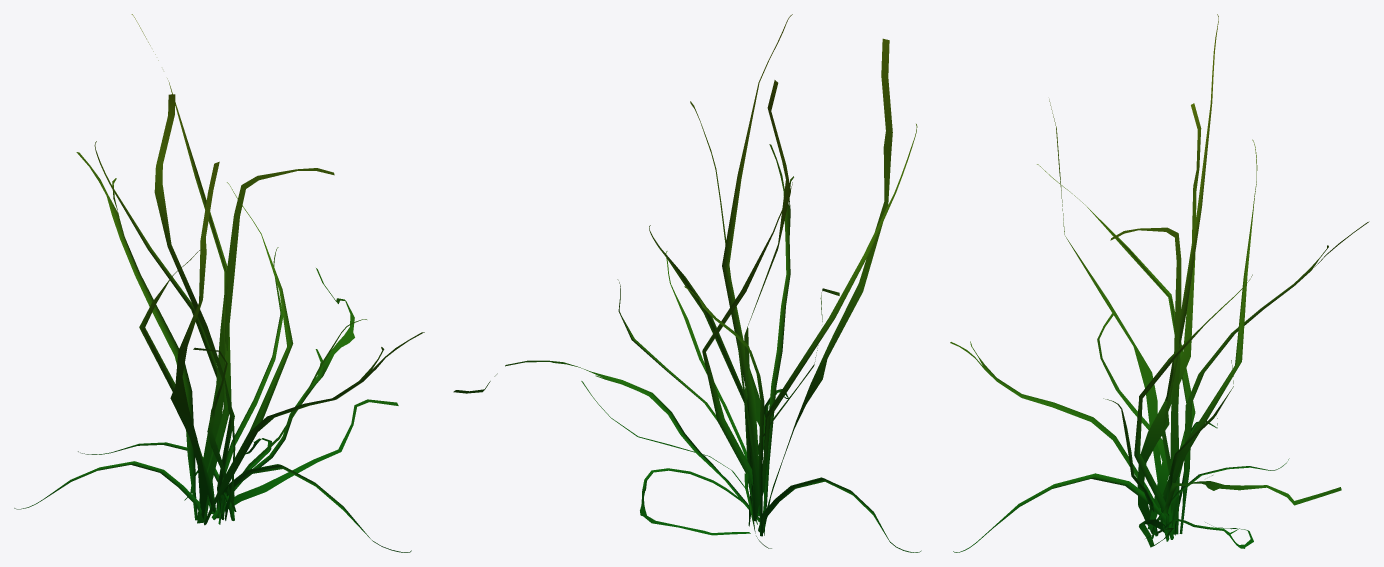
File: grass_medium_02_0.glb
3 renders of one model, left to right at view 1: azimuth 30°, elevation 25°; view 2: azimuth 150°, elevation 25°; view 3: azimuth 270°, elevation 25°, orthographic. The views are drawn at different scales.
Parts seen in each view (by area): view 1: grass_medium_02_a; view 2: grass_medium_02_a; view 3: grass_medium_02_a.
Boxes of the visible parts, left/top/right/bottom form: grass_medium_02_a: left=14, top=14, right=424, bottom=552; grass_medium_02_a: left=453, top=14, right=921, bottom=552; grass_medium_02_a: left=950, top=14, right=1369, bottom=552.
Size of the model in its own units: 0.1191 by 0.1569 by 0.1198.
